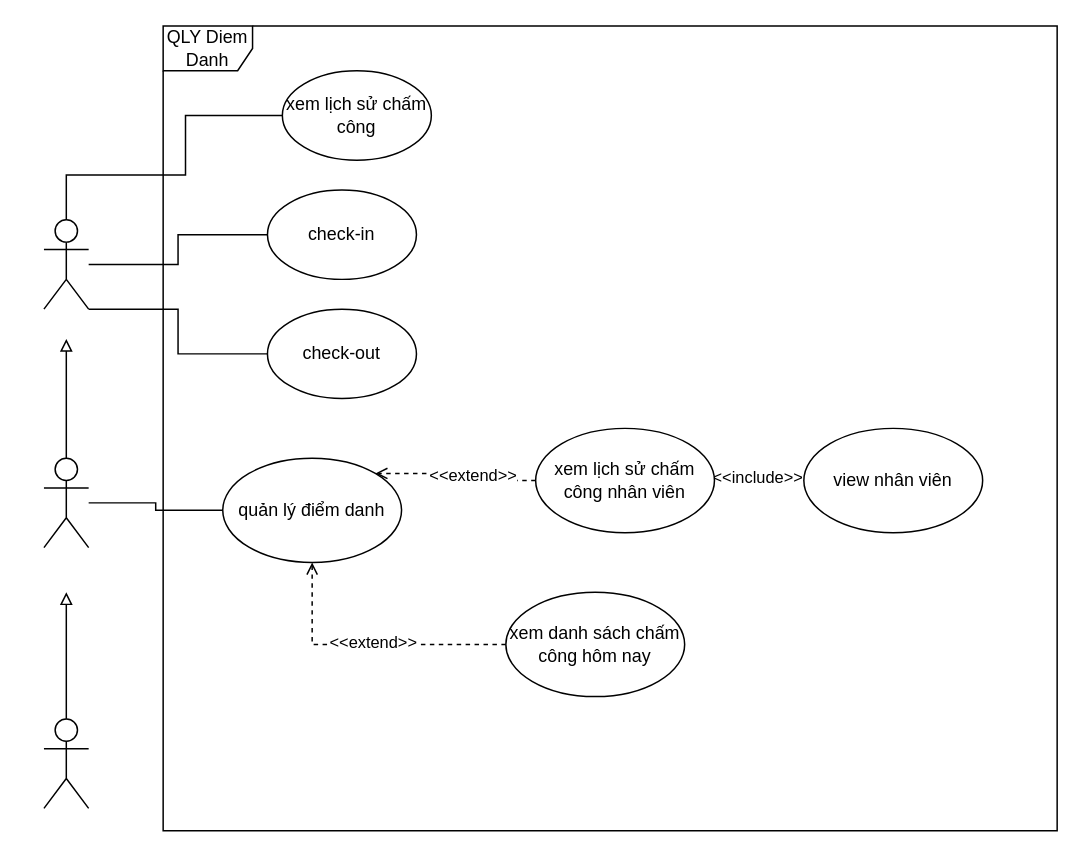
Some shapes in this 1083 by 866 pixel diagram are drawn without their labels. The centre of each missing label's shape, as x and y in pixels:
"Admin" belongs at (65,762).
"Manager" belongs at (65,502).
"Nhân viên" belongs at (65,263).
